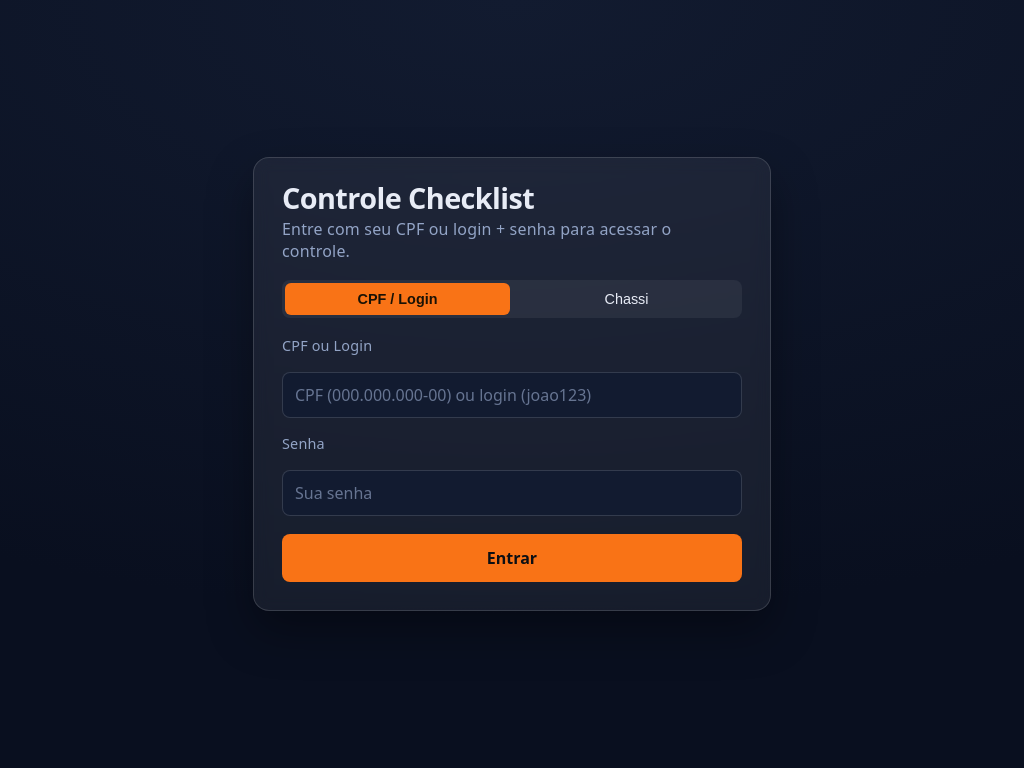
Test: ChecklistLoginPage — offline sem credencial guardada › query vazia do cache (nao-encontrado) explica a regra do offline
The width and height of the screenshot is (1024, 768).
Type "390.533.447-05" into the field labelled "CPF ou Login" at (512,395), box [282,372,742,418]
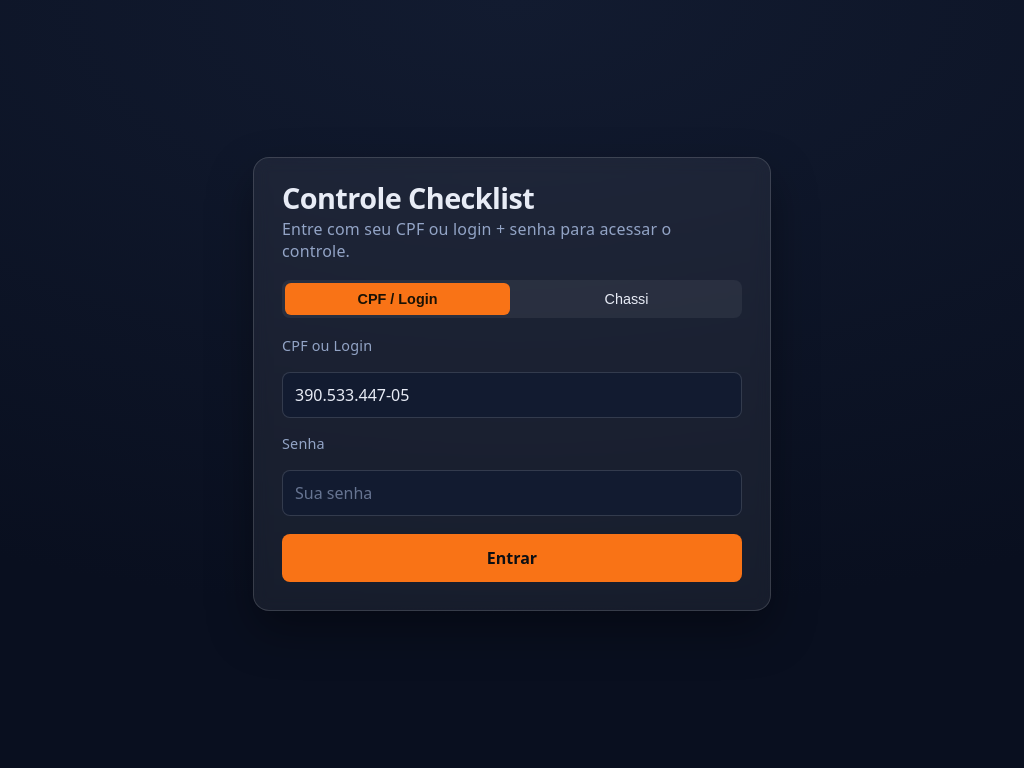
Type "segredo1" into the password field labelled "Senha" at (512,493), box [282,470,742,516]
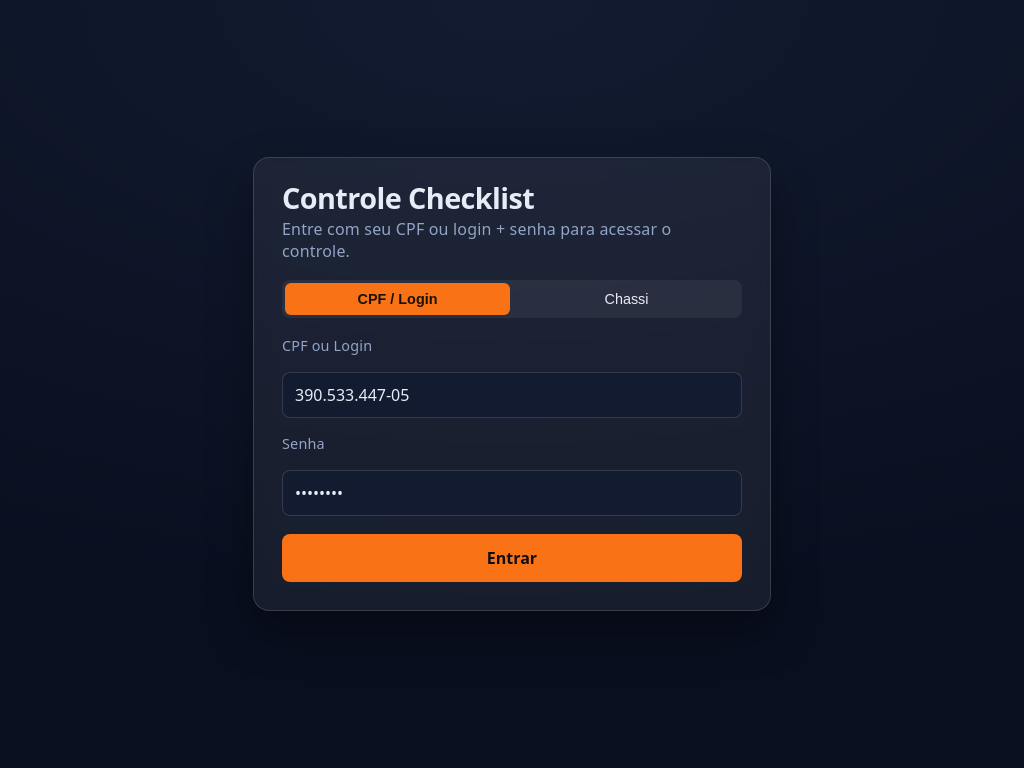
Click the button "Entrar" at (512,558), box [282,534,742,582]
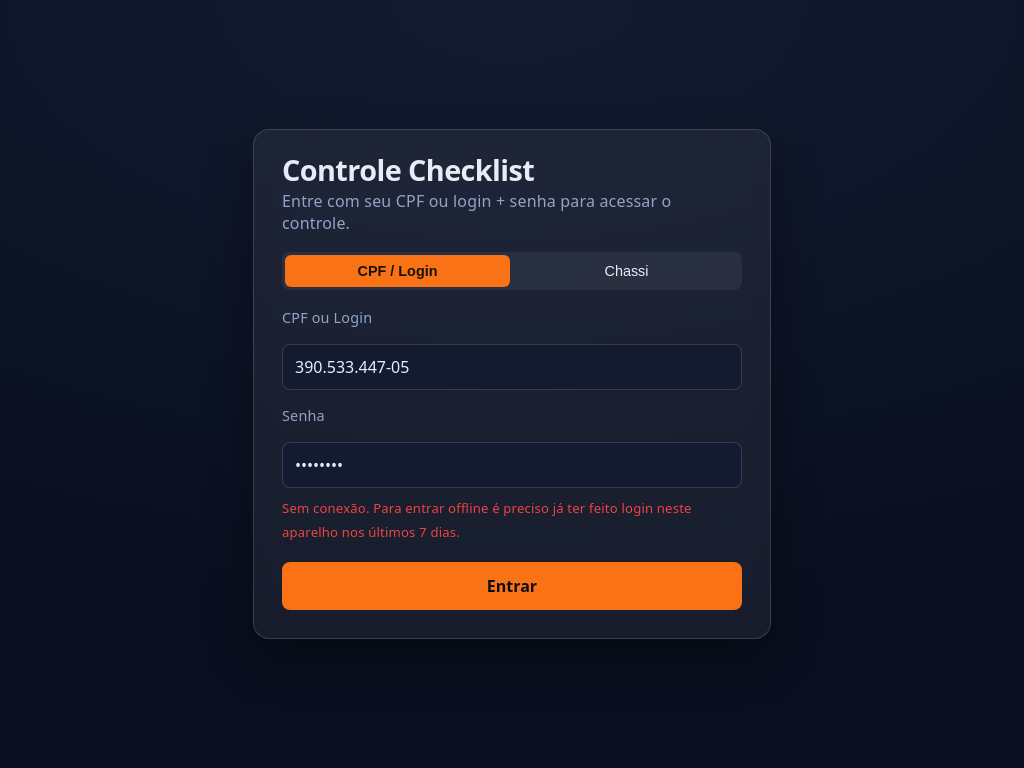
Check: the text "já ter feito login neste aparelho" is shown, box [282,499,692,541]
